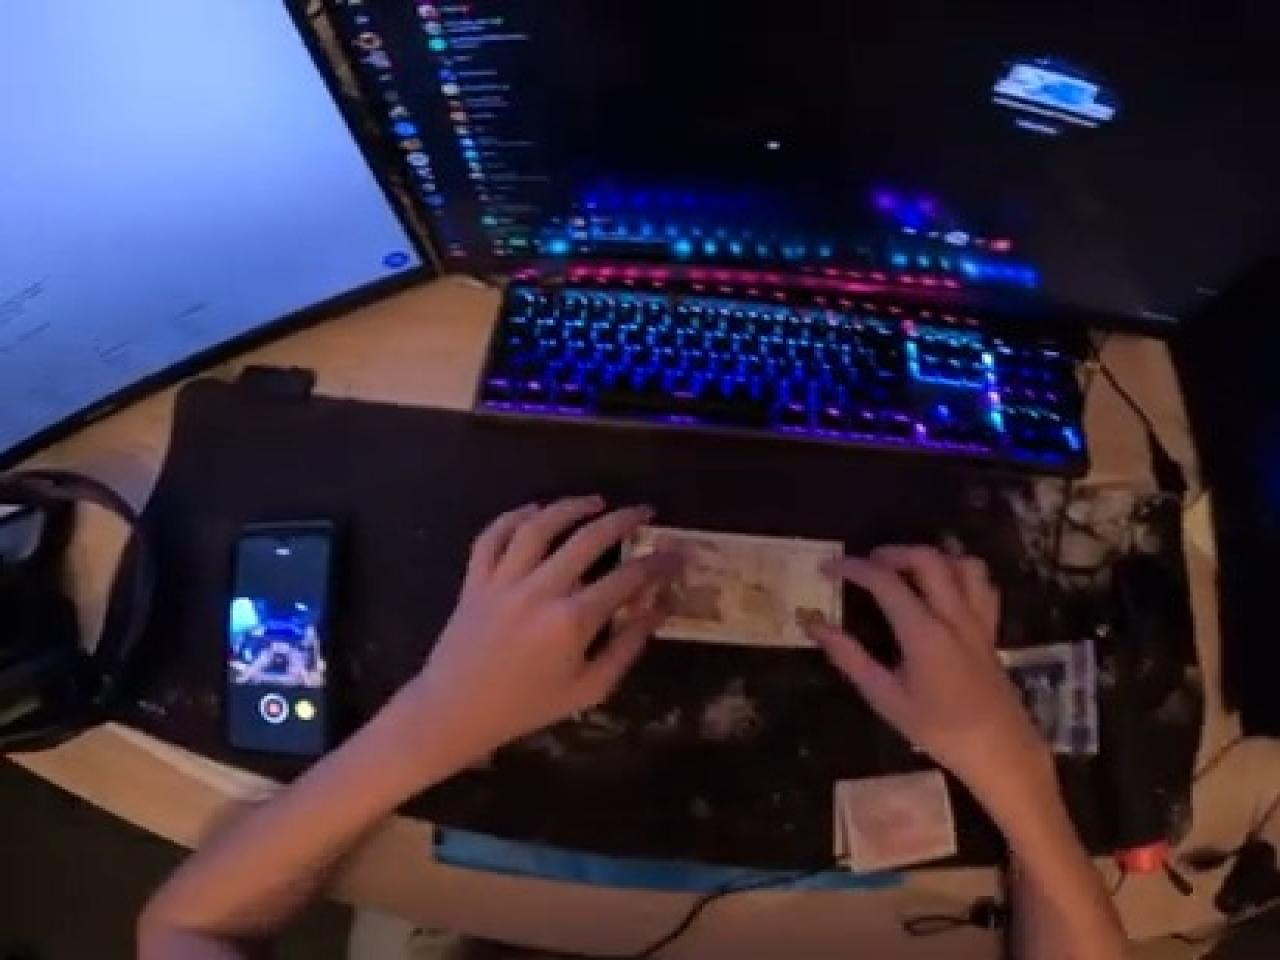50leva: (640, 528, 845, 653)
